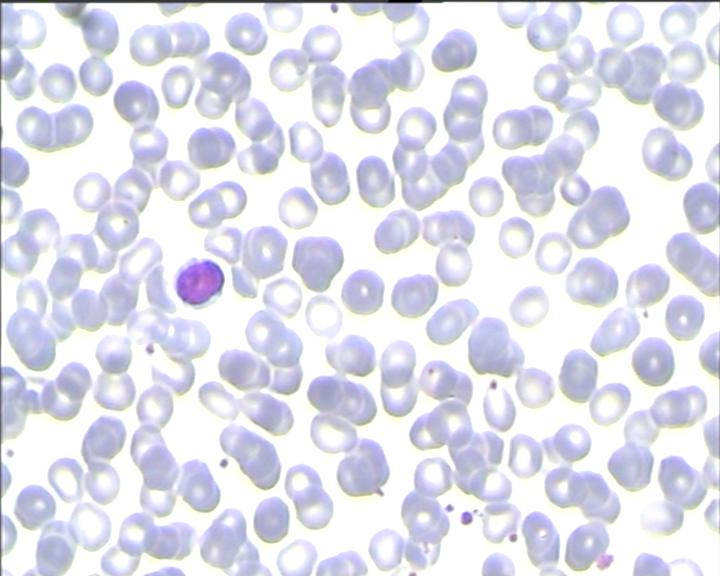lymp: (173, 254, 229, 315)
